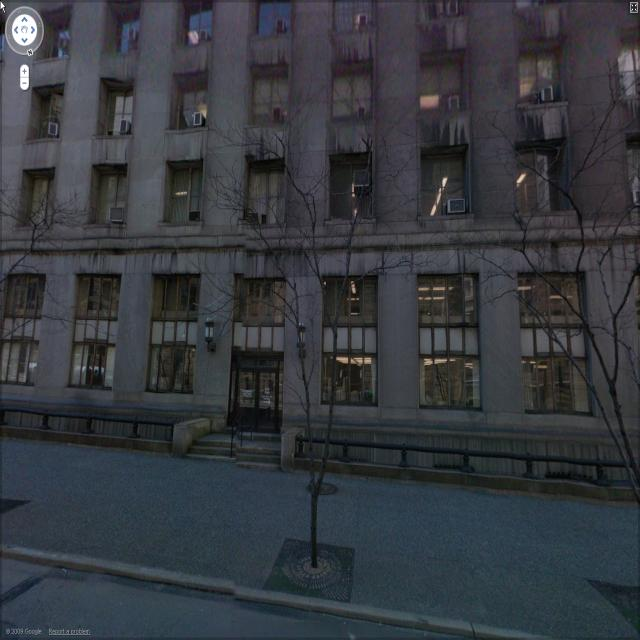window: (409, 147, 473, 234), (520, 349, 594, 424), (322, 154, 380, 232), (152, 154, 204, 238), (313, 275, 387, 331), (313, 351, 377, 413), (74, 166, 130, 236), (517, 276, 589, 326), (411, 278, 481, 324), (415, 50, 479, 100), (417, 359, 481, 409), (244, 160, 290, 228), (508, 58, 567, 110), (166, 72, 212, 137), (248, 68, 294, 133), (325, 68, 379, 122), (70, 341, 119, 400), (148, 345, 198, 402), (25, 80, 69, 144), (70, 272, 126, 320), (231, 286, 292, 330), (146, 271, 204, 315), (0, 275, 50, 323), (1, 338, 46, 388), (20, 172, 57, 232), (98, 84, 136, 135)
